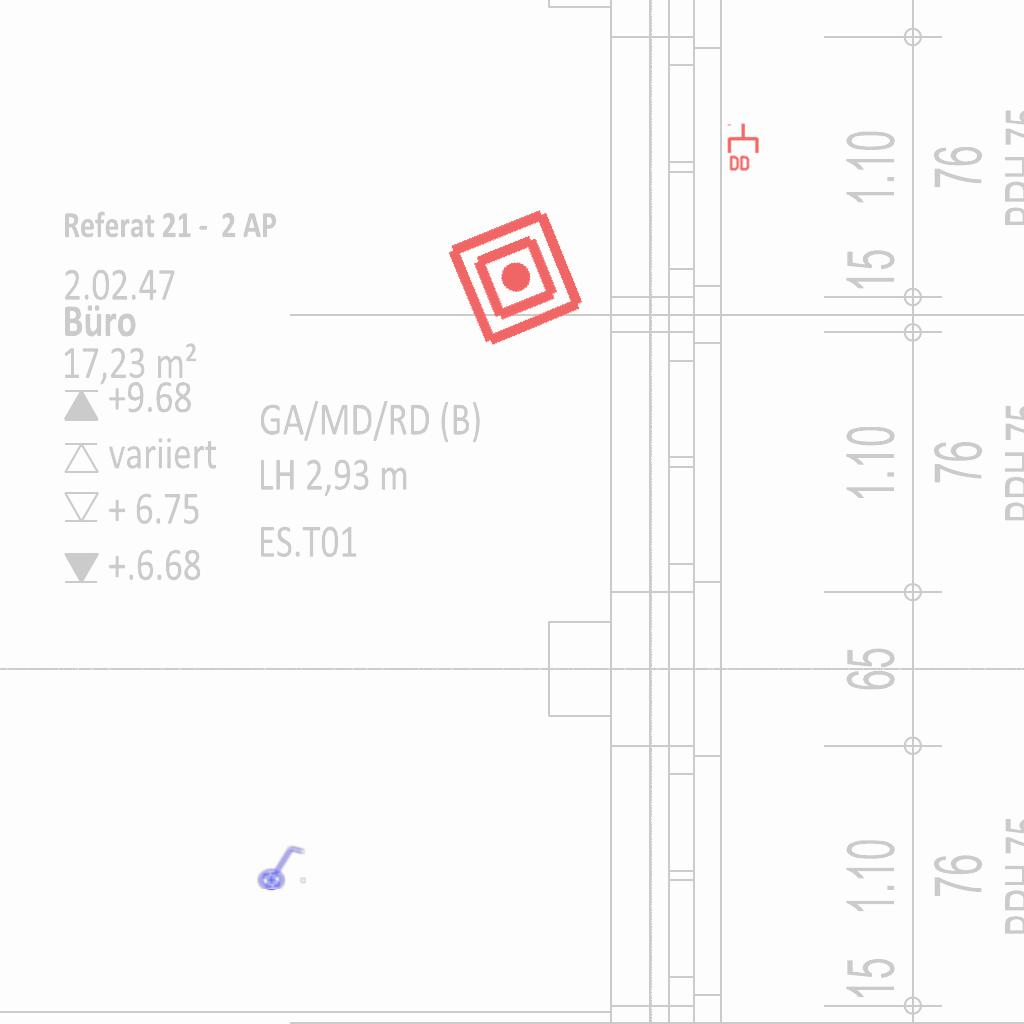Ausschalter_beleuchtet: (252, 843, 308, 891)
Datenanschluss_zweifach: (727, 122, 761, 173)
NAM-Nichtautomatischer_Melder: (441, 203, 590, 352)
